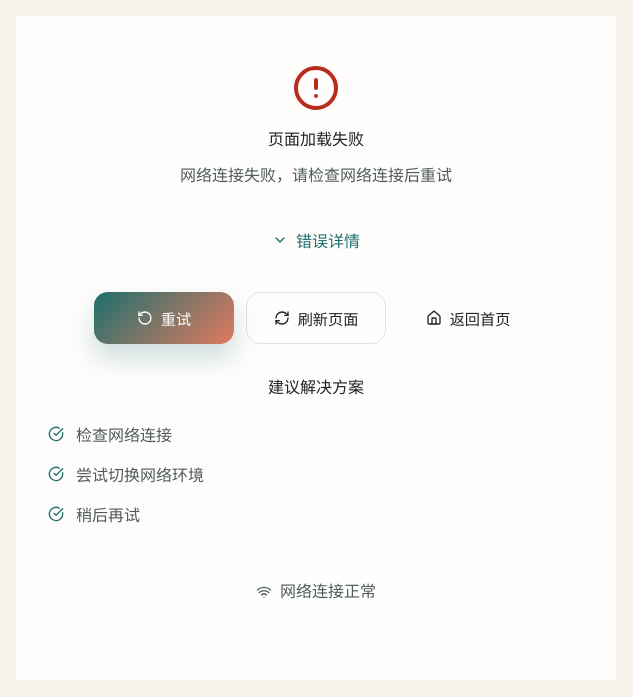
it: ModuleLoadErrorPage › Action Buttons › should show retry count in button text
Note: First retry
Click the button with class "btn--primary" at (164, 318), box [94,292,234,344]
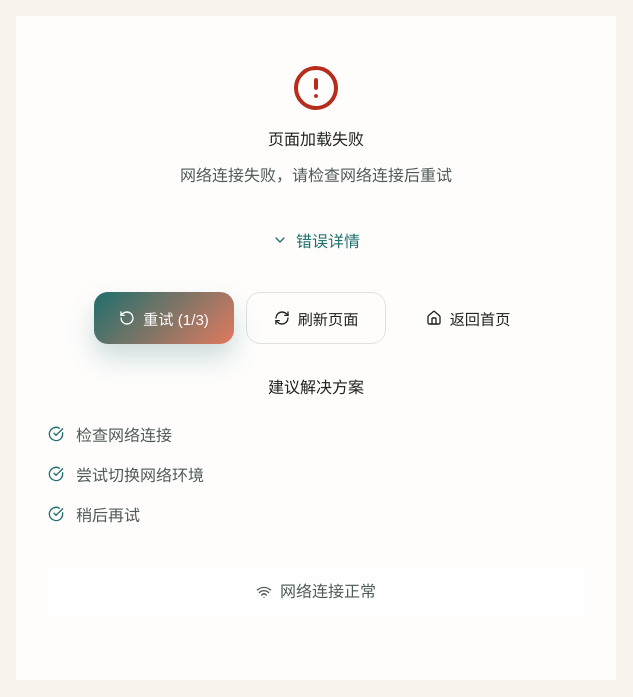
Now the button with class "btn--primary" reads "重试 (1/3)", box [94,292,234,344]
